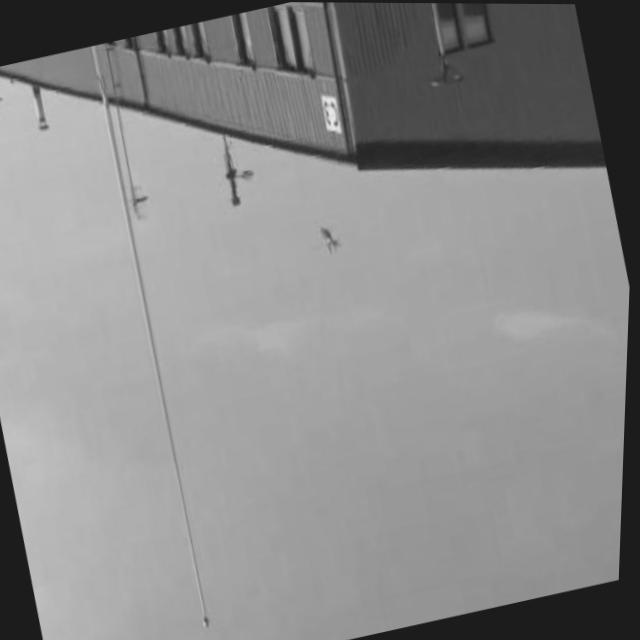helikopter: (306, 212, 350, 265)
